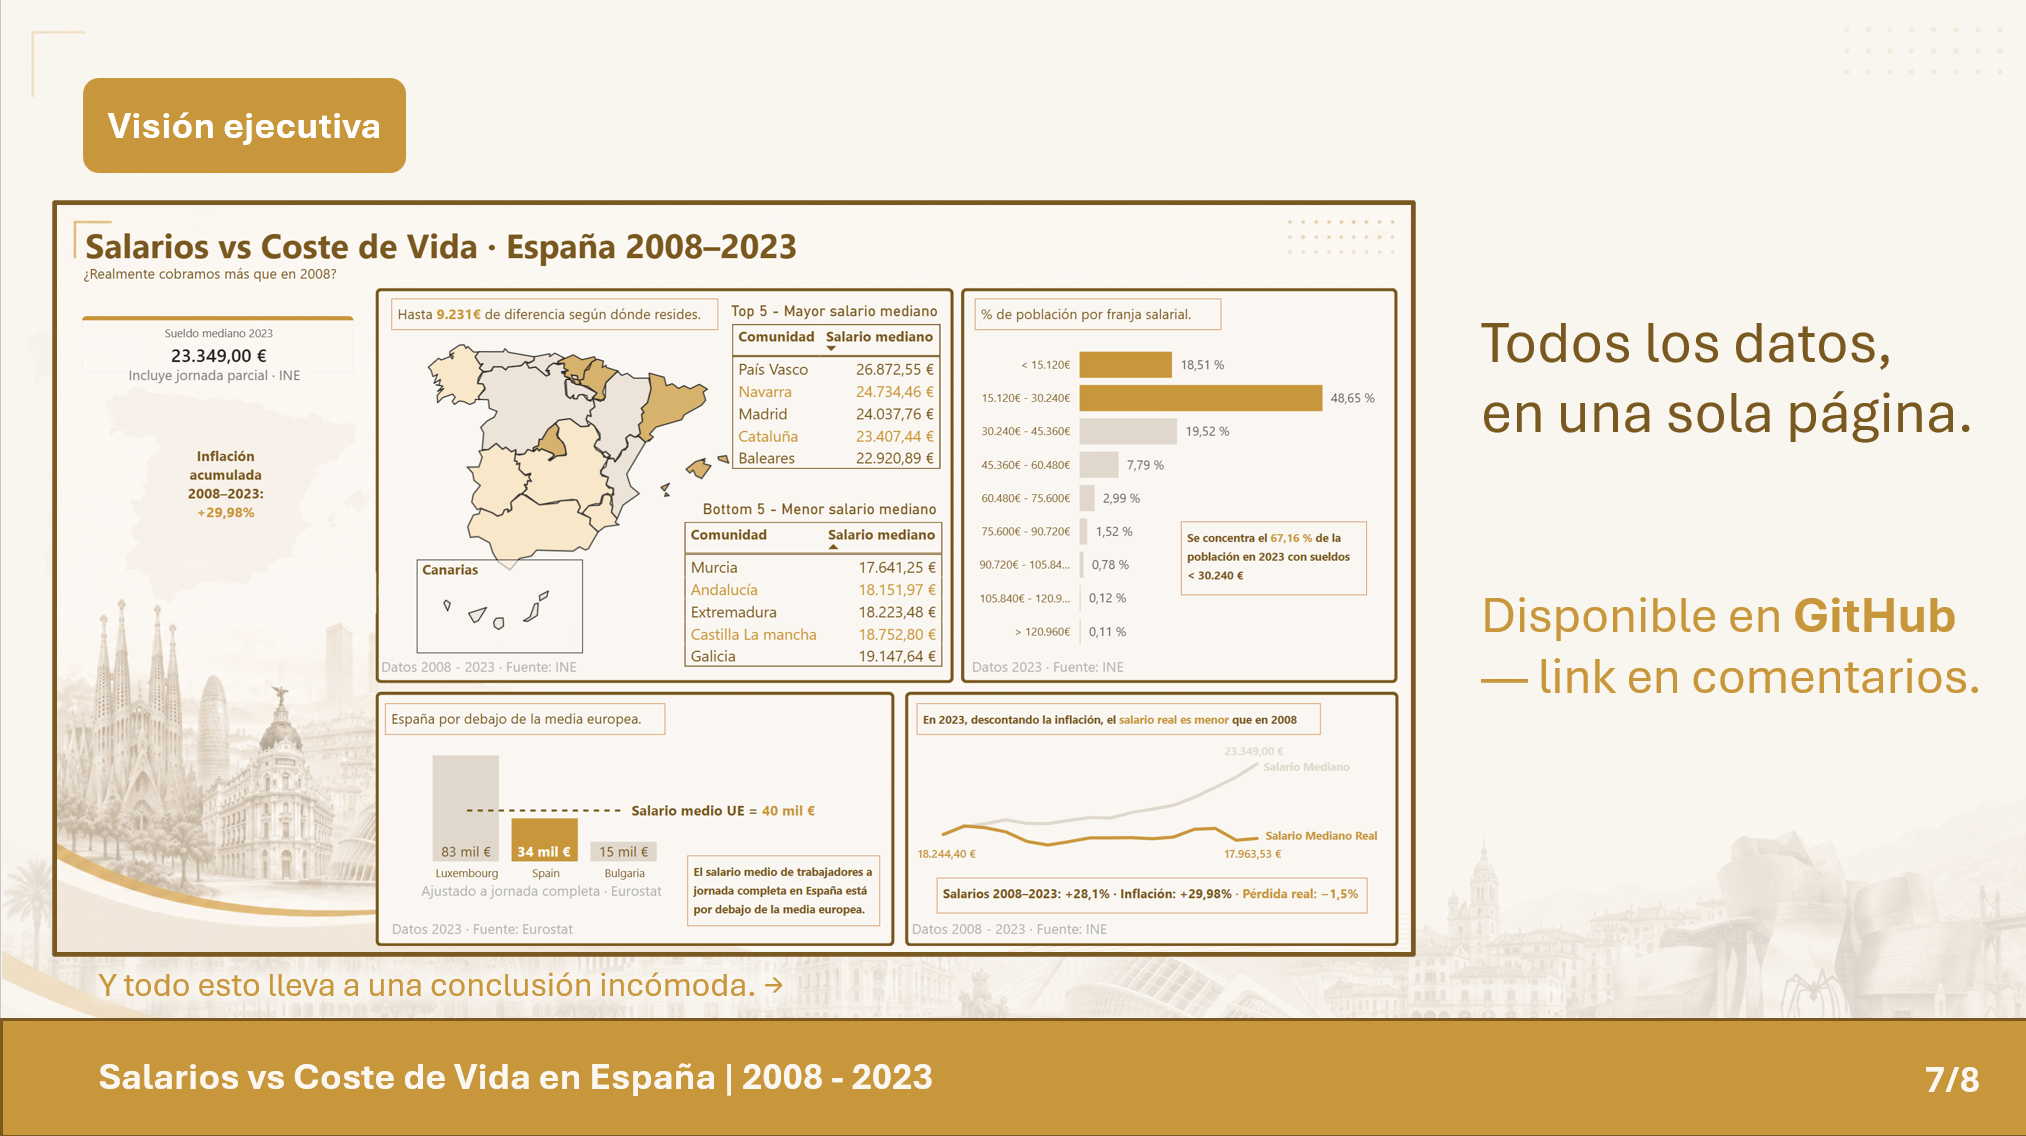

Layout of this report page (visuals, bound fields, positions):
{"tool":"powerbi","page":{"name":"Dashboard","canvas":[1280,720],"ordinal":0},"visuals":[{"type":"shape","box":[803.5,460.3,466.2,240.2],"z":0},{"type":"textbox","box":[22,11,700.6,60],"z":1000},{"type":"textbox","box":[861.2,87.6,261.7,37.5],"z":2000},{"type":"shape","box":[301.7,460.3,491.1,240.2],"z":3000},{"type":"shape","box":[301.8,78,546.7,373.8],"z":4000},{"type":"shape","box":[856.5,78,412.8,373.8],"z":5000},{"type":"azureMap","fields":{"Category":["Mapa.Comunidad autónoma"],"Series":["Mapa.mediana"]},"box":[217.9,96.9,552.7,282.8],"z":6000},{"type":"azureMap","fields":{"Category":["Mapa.Comunidad autónoma"],"Series":["Mapa.mediana"]},"box":[340.8,334.8,156.9,88.9],"z":7000},{"type":"image","box":[145.6,346.7,194.4,38.9],"z":8000},{"type":"image","box":[448.8,661.2,92.5,23.8],"z":9000},{"type":"tableEx","title":"Top 5 - Mayor salario mediano","fields":{"Values":["Mapa.Comunidad Autonoma","Mapa.mediana"]},"box":[633.3,91.4,247.9,178.9],"z":10000},{"type":"image","box":[291.2,582.5,195,23.8],"z":11000},{"type":"image","box":[318.8,583.8,195,23.8],"z":12000},{"type":"image","box":[348.8,495,5,185],"z":13000},{"type":"textbox","box":[316.8,87.9,308.8,30],"z":14000},{"type":"image","box":[347.5,586.2,20,12.5],"z":15000},{"type":"textbox","box":[340.8,329.8,73,29],"z":16000},{"type":"image","box":[305,347.5,31.2,33.8],"z":17000},{"type":"image","box":[353.8,398.8,204.9,22],"z":18000},{"type":"tableEx","title":"Bottom 5 - Menor salario mediano","fields":{"Values":["Mapa.Comunidad Autonoma","Mapa.mediana"]},"box":[587.7,277.8,268.8,174.9],"z":19000},{"type":"textbox","box":[302.2,422.2,225.6,30],"z":20000},{"type":"lineChart","fields":{"Y":["Sum(Mediana.Mediana)","Mediana.Salario Medio Real"],"Category":["CalendarioAnual.Año"]},"box":[823.8,506.2,327.5,125],"z":21000},{"type":"textbox","box":[1136.8,515.9,95.9,30],"z":22000},{"type":"cardVisual","fields":{"Data":["Mediana.Salario 2023 real"]},"box":[1076.2,587.5,120,48.8],"z":23000},{"type":"cardVisual","fields":{"Data":["Mediana.Sueldo 2023"]},"box":[1076.2,490,120,48.8],"z":24000},{"type":"textbox","box":[813.8,471.2,382.5,30],"z":25000},{"type":"textbox","box":[1064.4,298.9,175.6,70],"z":26000},{"type":"cardVisual","fields":{"Data":["Mediana.Sueldo 2008"]},"box":[786.2,587.5,122.5,48.8],"z":27000},{"type":"textbox","box":[1138.8,581.2,132.5,31.2],"z":28000},{"type":"textbox","box":[311.2,471.2,265,30],"z":29000},{"type":"clusteredBarChart","fields":{"Category":["Hoja1.Sueldo Anual Bruto (2023)"],"Y":["Sum(Hoja1.% de Trabajadores)"]},"box":[856.2,112.5,396.2,321.2],"z":30000},{"type":"textbox","box":[868.9,87.8,233.3,30],"z":31000},{"type":"textbox","box":[861.1,422.2,170,30],"z":32000},{"type":"textbox","box":[803.8,670,298.8,30],"z":33000},{"type":"textbox","box":[597,615,182,67],"z":34000},{"type":"textbox","box":[312.2,670,263.3,30],"z":35000},{"type":"textbox","box":[20,50,280,30],"z":36000},{"type":"textbox","box":[101.1,223.3,117.8,81.1],"z":37000},{"type":"lineStackedColumnComboChart","fields":{"Y":["Sum(Sheet 1.2024)"],"Category":["Sheet 1.País"],"Y2":["Sheet 1.media europea"]},"box":[321.2,486.2,283.8,163.8],"z":38000},{"type":"textbox","box":[358.8,597.3,75,35],"z":39000},{"type":"textbox","box":[507.5,597.3,68.8,35],"z":40000},{"type":"textbox","box":[431.2,597.3,62.5,35],"z":41000},{"type":"textbox","box":[538.8,557.5,201.2,28.8],"z":42000},{"type":"textbox","box":[340,633.8,262.5,30],"z":43000},{"type":"textbox","box":[832.5,636.2,407.5,33.8],"z":44000},{"type":"cardVisual","fields":{"Data":["Mediana.Sueldo 2023"]},"box":[7,88,291.2,87.5],"z":45000},{"type":"image","box":[22.5,117.5,62.5,33.8],"z":46000},{"type":"textbox","box":[63.2,145.5,176.2,30],"z":47000}]}

Visuals, with their boxes in screenshot pixels (x1, y1, x2, y2), scaled from the page's 1280x720 canvas onto the 2026x1136 screenshot:
shape: BBox(1272, 726, 2010, 1105)
textbox: BBox(35, 17, 1144, 112)
textbox: BBox(1363, 138, 1777, 197)
shape: BBox(478, 726, 1255, 1105)
shape: BBox(478, 123, 1343, 713)
shape: BBox(1356, 123, 2009, 713)
azureMap - Mapa.Comunidad autónoma x Mapa.mediana: BBox(345, 153, 1220, 599)
azureMap - Mapa.Comunidad autónoma x Mapa.mediana: BBox(539, 528, 788, 669)
image: BBox(230, 547, 538, 608)
image: BBox(710, 1043, 857, 1081)
"Top 5 - Mayor salario mediano" tableEx: BBox(1002, 144, 1395, 426)
image: BBox(461, 919, 770, 957)
image: BBox(505, 921, 813, 959)
image: BBox(552, 781, 560, 1073)
textbox: BBox(501, 139, 990, 186)
image: BBox(550, 925, 582, 945)
textbox: BBox(539, 520, 655, 566)
image: BBox(483, 548, 532, 602)
image: BBox(560, 629, 884, 664)
"Bottom 5 - Menor salario mediano" tableEx: BBox(930, 438, 1356, 714)
textbox: BBox(478, 666, 835, 713)
lineChart - Sum(Mediana.Mediana) x Mediana.Salario Medio Real: BBox(1304, 799, 1822, 996)
textbox: BBox(1799, 814, 1951, 861)
cardVisual - Mediana.Salario 2023 real: BBox(1703, 927, 1893, 1004)
cardVisual - Mediana.Sueldo 2023: BBox(1703, 773, 1893, 850)
textbox: BBox(1288, 743, 1894, 791)
textbox: BBox(1685, 472, 1963, 582)
cardVisual - Mediana.Sueldo 2008: BBox(1244, 927, 1438, 1004)
textbox: BBox(1803, 917, 2012, 966)
textbox: BBox(493, 743, 912, 791)
clusteredBarChart - Hoja1.Sueldo Anual Bruto (2023) x Sum(Hoja1.% de Trabajadores): BBox(1355, 178, 1982, 684)
textbox: BBox(1375, 139, 1745, 186)
textbox: BBox(1363, 666, 1632, 713)
textbox: BBox(1272, 1057, 1745, 1104)
textbox: BBox(945, 970, 1233, 1076)
textbox: BBox(494, 1057, 911, 1104)
textbox: BBox(32, 79, 475, 126)
textbox: BBox(160, 352, 346, 480)
lineStackedColumnComboChart - Sum(Sheet 1.2024) x Sheet 1.País: BBox(508, 767, 958, 1026)
textbox: BBox(568, 942, 687, 998)
textbox: BBox(803, 942, 912, 998)
textbox: BBox(683, 942, 781, 998)
textbox: BBox(853, 880, 1171, 925)
textbox: BBox(538, 1000, 954, 1047)
textbox: BBox(1318, 1004, 1963, 1057)
cardVisual - Mediana.Sueldo 2023: BBox(11, 139, 472, 277)
image: BBox(36, 185, 135, 239)
textbox: BBox(100, 230, 379, 277)
